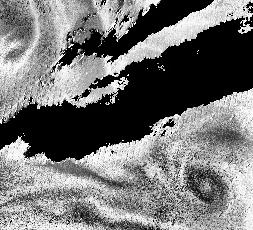CE: (177, 149, 243, 216)
